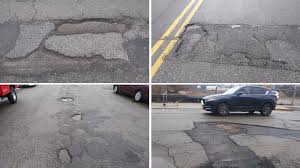pothole: (1, 13, 148, 74), (177, 17, 300, 73), (158, 121, 300, 167), (55, 127, 144, 167), (56, 90, 86, 122)
